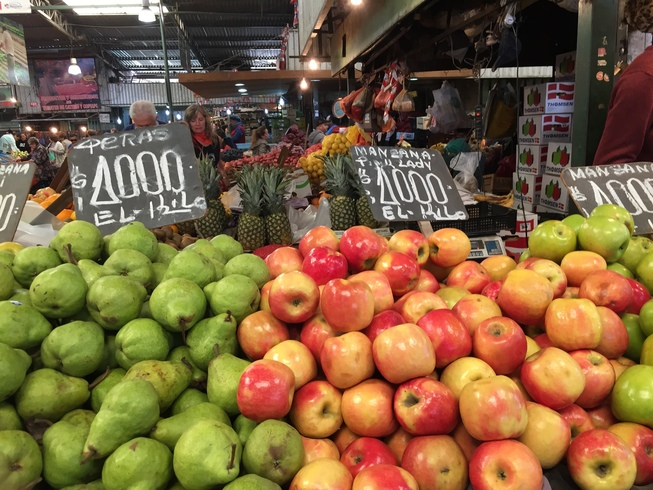precio: (75, 121, 205, 239), (349, 144, 468, 222), (559, 164, 653, 242), (1, 160, 32, 249)
